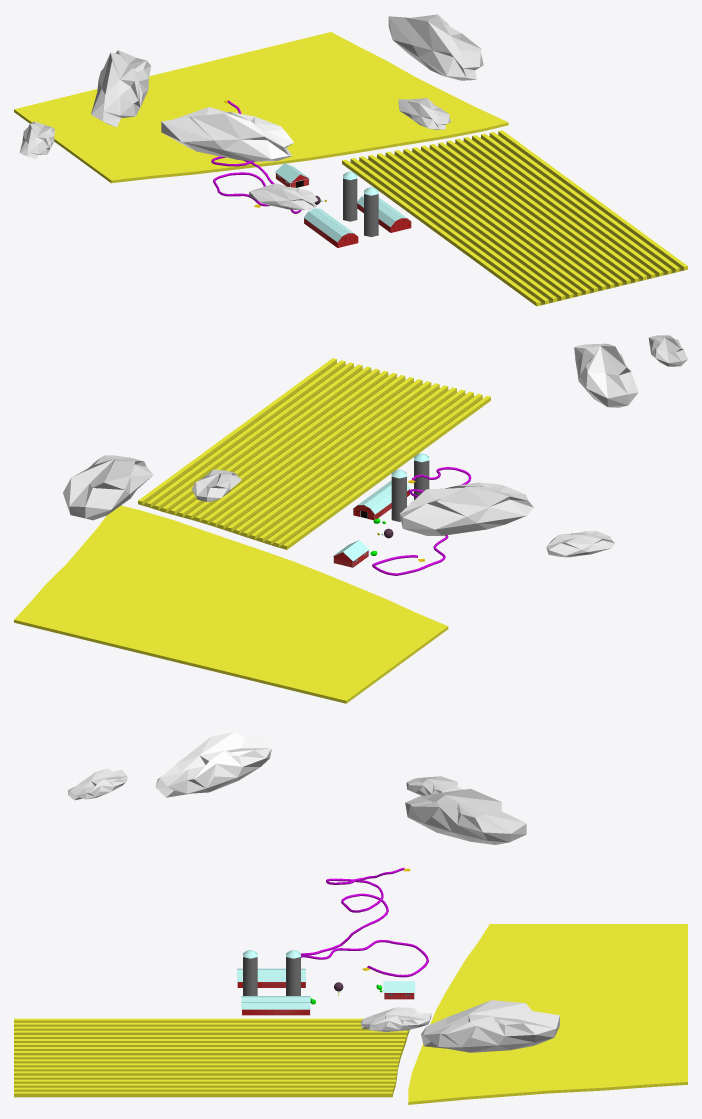
The picture shows the model from 3 angles, top to bottom: view 1: azimuth 30°, elevation 25°; view 2: azimuth 150°, elevation 25°; view 3: azimuth 270°, elevation 25°; orthographic projection. The views are drawn at different scales.
Parts seen in each view (by area): view 1: Поле_2, Box001, Облако_3, Облако_1, Поле_3, Облако_5, Облако_4, Амбар_3, Облако_2, Облако_6, Амбар_1, ПУТЬ (+3 smaller); view 2: Поле_2, Box001, Облако_5, Поле_3, Облако_1, Облако_3, Облако_6, Облако_2, Облако_4, Амбар_1, ПУТЬ, Бак_1 (+2 smaller); view 3: Поле_2, Box001, Облако_1, Облако_5, Облако_3, ПУТЬ, Амбар_1, Облако_2, Облако_4, Амбар_3, Облако_6, Бак_1 (+2 smaller).
Boxes of the visible parts, x1,y1,x2,y2 form: Поле_2: (14,32,508,183); Box001: (342,130,687,306); Облако_3: (161,107,293,161); Облако_1: (388,14,483,80); Поле_3: (350,135,683,305); Облако_5: (91,50,151,127); Облако_4: (249,183,317,209); Амбар_3: (303,208,358,247); Облако_2: (398,98,450,129); Облако_6: (19,121,54,158); Амбар_1: (357,195,411,232); ПУТЬ: (211,100,301,213); Поле_2: (14,505,448,703); Box001: (138,358,490,549); Облако_5: (399,482,533,535); Поле_3: (141,363,482,548); Облако_1: (63,455,153,520); Облако_3: (574,343,638,407); Облако_6: (546,531,614,557); Облако_2: (191,469,241,501); Облако_4: (648,335,687,366); Амбар_1: (352,480,410,520); ПУТЬ: (372,467,471,575); Бак_1: (391,469,406,521); Поле_2: (408,924,687,1104); Box001: (14,1018,408,1097); Облако_1: (421,1000,559,1052); Облако_5: (405,788,526,844); Облако_3: (155,732,271,797); ПУТЬ: (301,867,428,977); Амбар_1: (241,996,310,1015); Облако_2: (360,1007,431,1031); Облако_4: (68,768,127,800); Амбар_3: (237,968,305,987); Облако_6: (406,776,463,795); Бак_1: (286,950,300,995).
Size of what is drawn, in the model's own units: 6163 by 2147 by 7328.
Materials: 28 (4 with a texture image).
